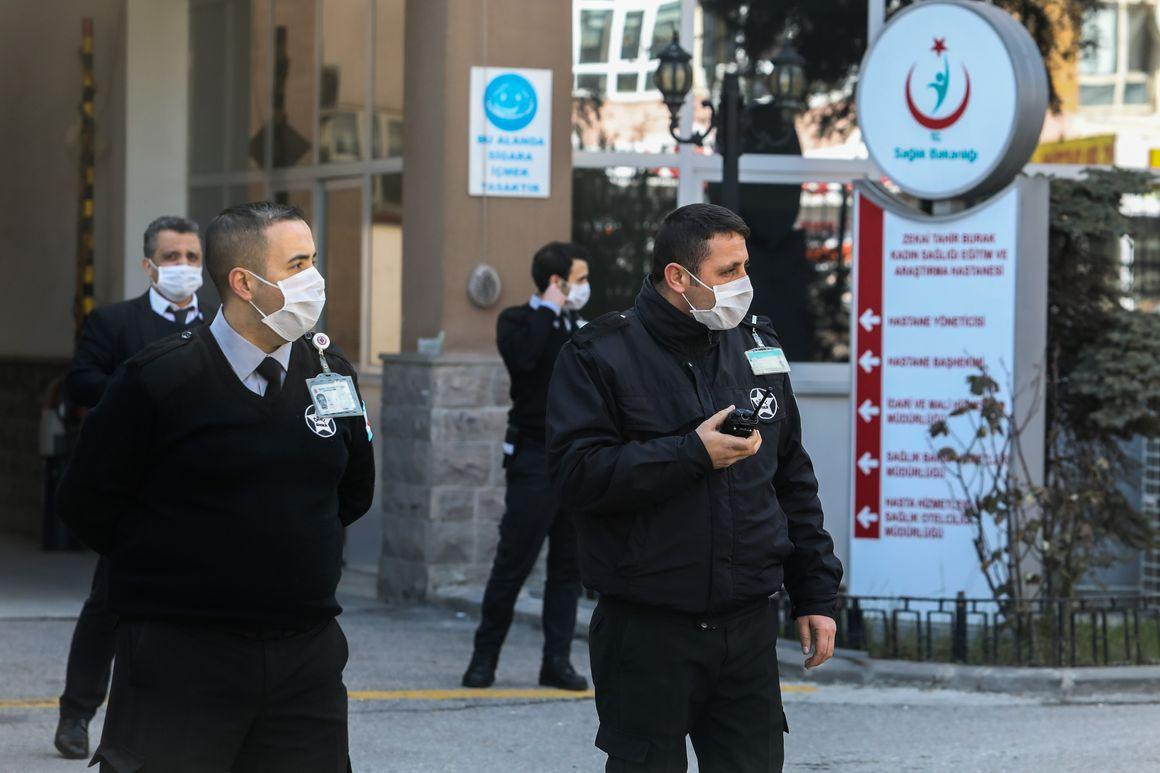Person: (561, 227, 834, 772), (134, 213, 397, 773)
